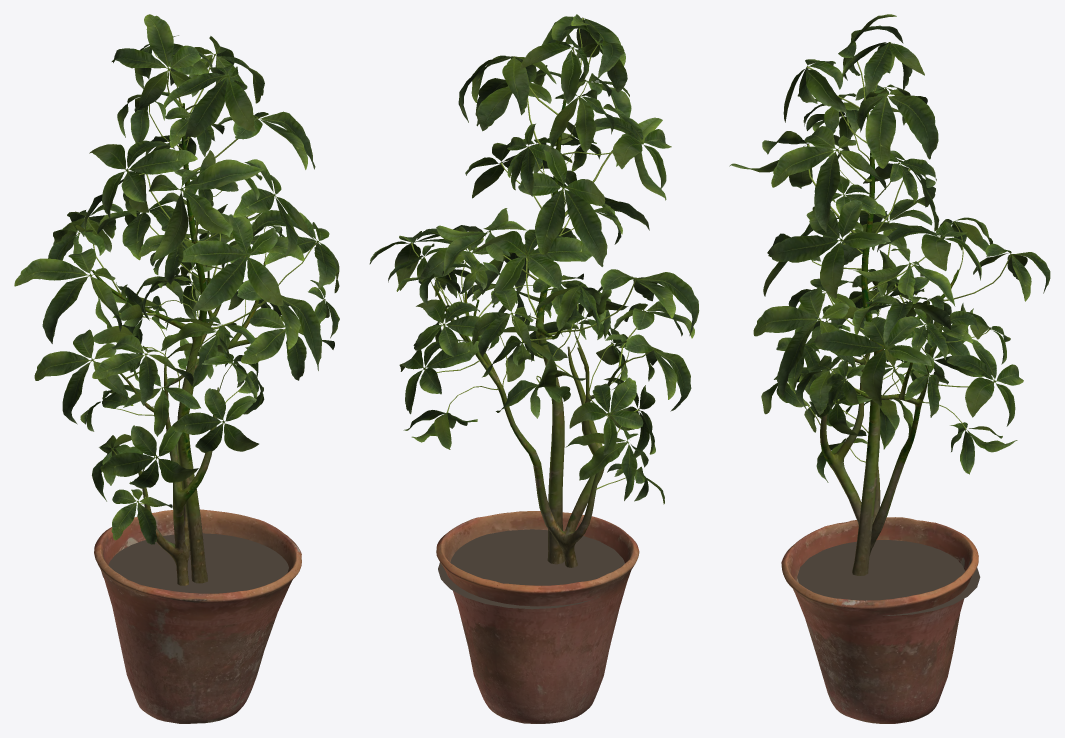
The model's file is plant_money_tree.glb.
The picture shows the model from 3 angles, left to right: view 1: azimuth 30°, elevation 25°; view 2: azimuth 150°, elevation 25°; view 3: azimuth 270°, elevation 25°; orthographic projection. The views are drawn at different scales.
Parts seen in each view (by area): view 1: pachira_aquatica_01_leaves_d, planter_pot_clay, soil, pachira_aquatica_01_bark_d; view 2: pachira_aquatica_01_leaves_d, planter_pot_clay, soil, pachira_aquatica_01_bark_d; view 3: pachira_aquatica_01_leaves_d, planter_pot_clay, soil, pachira_aquatica_01_bark_d.
Part boxes in pixels (x1,y1,x2,y2): pachira_aquatica_01_leaves_d: (14, 14, 339, 544); planter_pot_clay: (94, 509, 301, 723); soil: (101, 533, 288, 593); pachira_aquatica_01_bark_d: (92, 103, 265, 585); pachira_aquatica_01_leaves_d: (369, 14, 699, 504); planter_pot_clay: (436, 511, 639, 723); soil: (438, 529, 624, 609); pachira_aquatica_01_bark_d: (433, 100, 627, 567); pachira_aquatica_01_leaves_d: (729, 14, 1050, 482); planter_pot_clay: (781, 517, 978, 723); soil: (797, 540, 980, 615); pachira_aquatica_01_bark_d: (820, 114, 959, 575).
Size of the model in its own units: 0.8647 by 1.88 by 0.8175.
4 materials, 3 textured.
